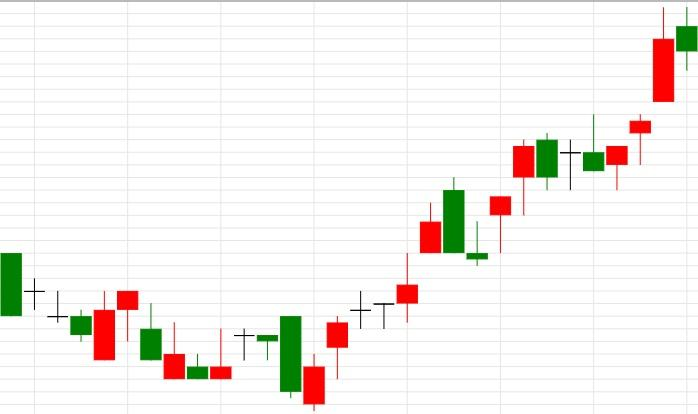bearish_engulfing_fall: (304, 176, 465, 411)
bullish_engulfing_rise: (1, 252, 115, 361)
